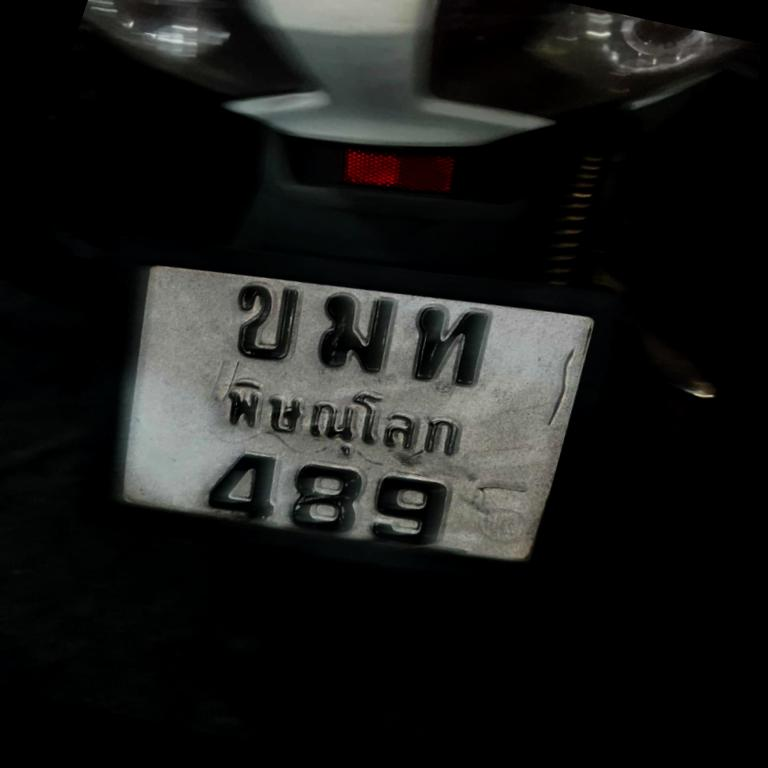license plate: (17, 165, 655, 636)
